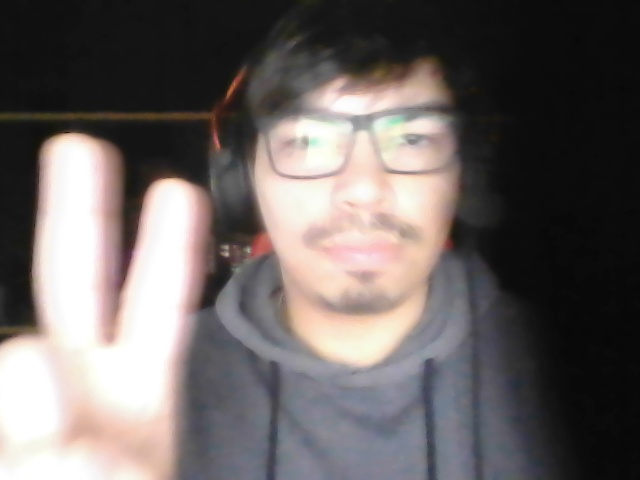two: (1, 127, 233, 480)
